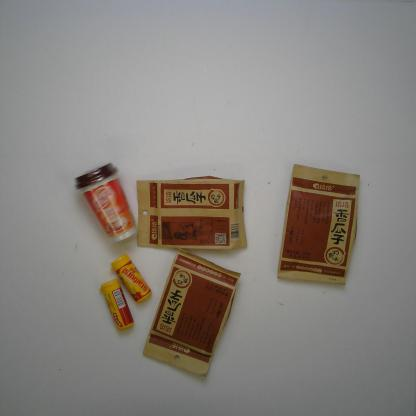Candy: (98, 276, 136, 337), (110, 254, 154, 306)
Dried Food: (142, 247, 243, 378), (275, 161, 361, 289), (132, 174, 250, 254)
Instant Drink: (73, 162, 140, 245)
